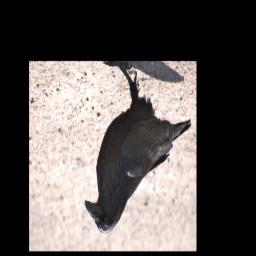Crow: (83, 62, 193, 235)
